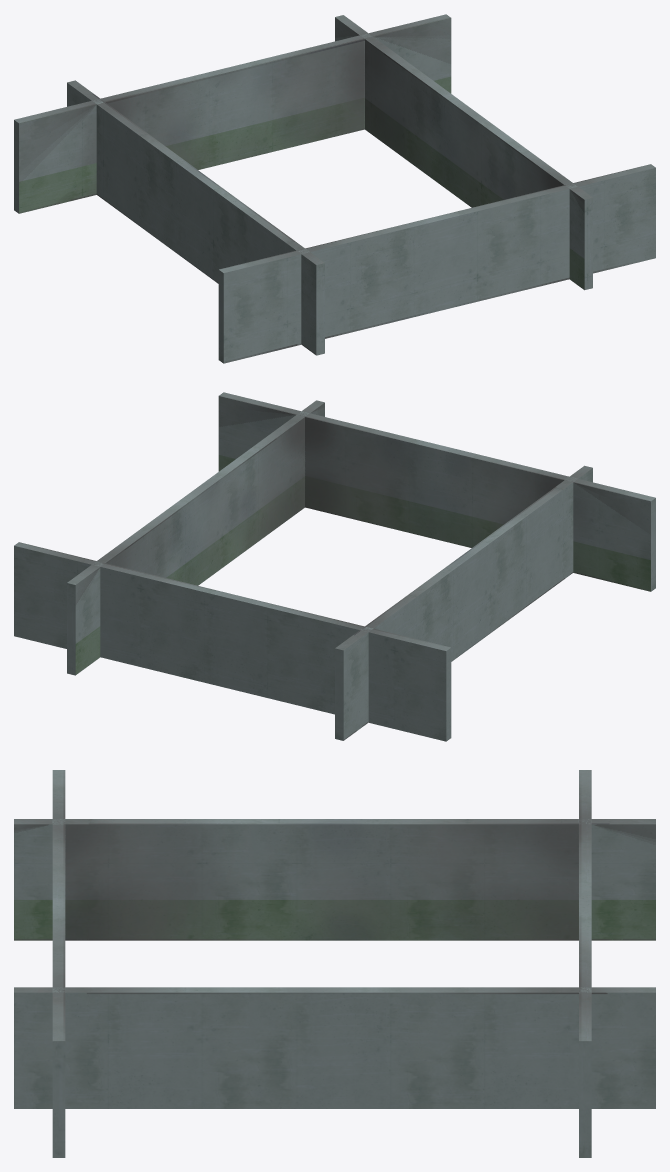
File: theme03_wall.fbx
3 renders of one model, top to bottom at view 1: azimuth 30°, elevation 25°; view 2: azimuth 150°, elevation 25°; view 3: azimuth 270°, elevation 25°, orthographic. The views are drawn at different scales.
Visible parts, largest first — view 1: MAIN WALl test; view 2: MAIN WALl test; view 3: MAIN WALl test.
Boxes of the visible parts, x1,y1,x2,y2 form: MAIN WALl test: (14,14,655,363); MAIN WALl test: (14,392,655,741); MAIN WALl test: (14,770,655,1157).
Bounding box in the file's own units: 5000 × 1000 × 5000.
1 material, 1 textured.
